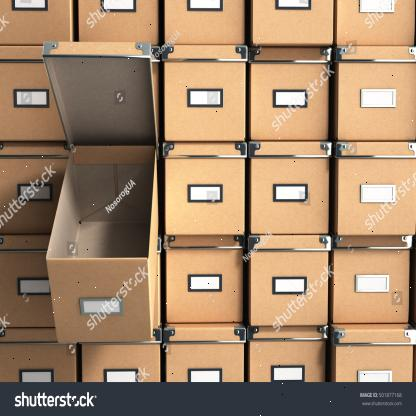box: (46, 260, 153, 343), (161, 45, 248, 142), (162, 144, 248, 236), (336, 43, 416, 140), (247, 236, 331, 326), (250, 142, 332, 234), (249, 47, 330, 140), (163, 234, 245, 324), (336, 144, 416, 235), (333, 236, 411, 324), (245, 325, 329, 381), (333, 330, 416, 383), (164, 329, 246, 382)
